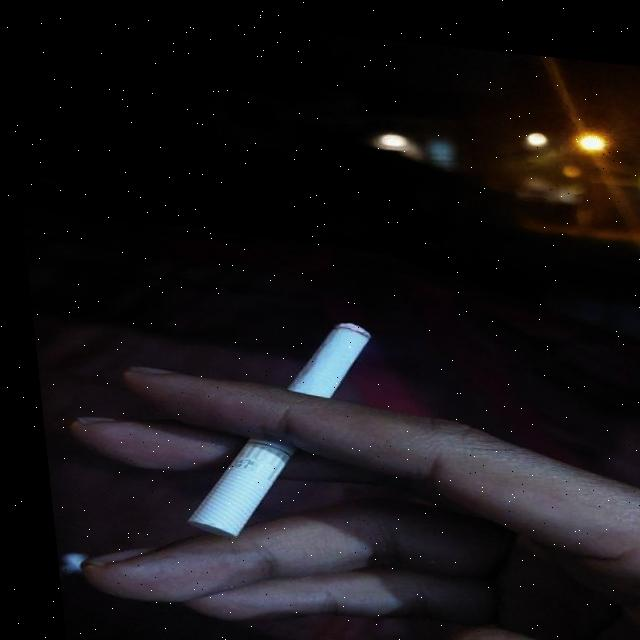cigarette: (159, 300, 385, 545)
